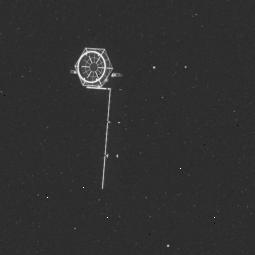earth_observation_sat_1: (66, 41, 137, 139)
